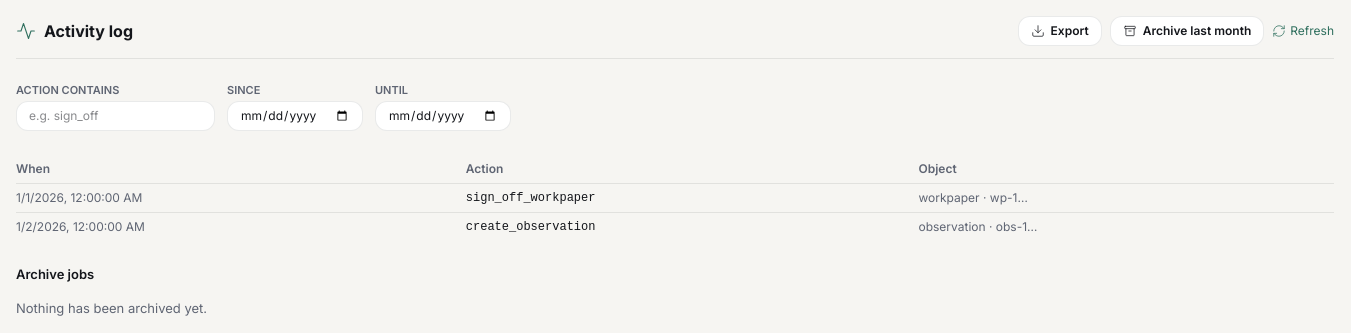
it: Phase 7 UI panels (7G) › ActivityLogPanel › renders activity rows and filters by action
This screenshot has width=1351, height=333.
Expected: the table with test id "activity-table" is shown, [16,155,1334,241]
Expected: the row with test id "activity-row-a1" is shown, [16,184,1334,212]
Type "create" into the field with test id "activity-filter". click: (116, 116)
box: [16,101,215,131]
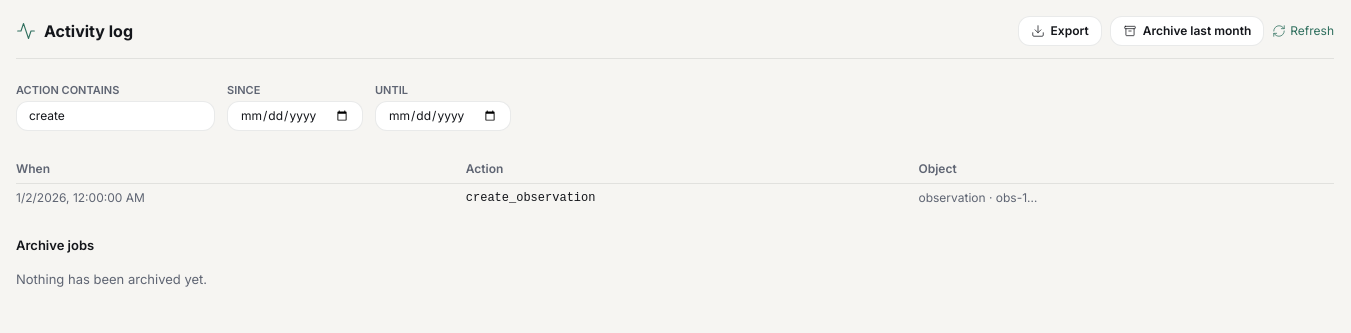
Expected: the row with test id "activity-row-a2" is shown, [16,184,1334,212]
Expected: the row with test id "activity-row-a1" is gone
